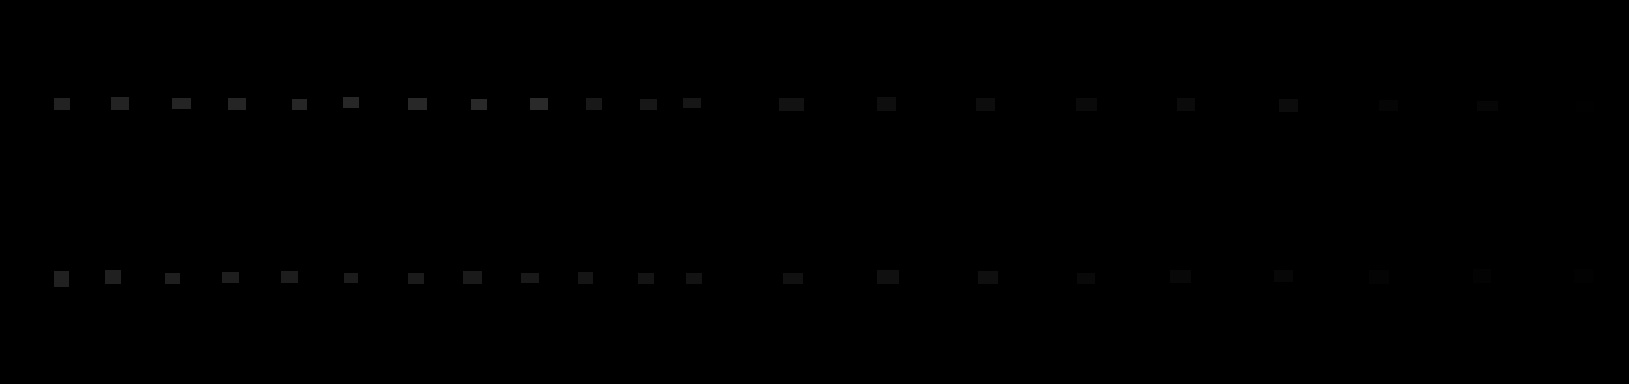light: (779, 98, 804, 111), (877, 270, 899, 284), (1369, 270, 1389, 284), (1170, 270, 1191, 283), (1076, 98, 1097, 111), (978, 271, 998, 284), (1574, 269, 1593, 283), (877, 97, 896, 111), (976, 98, 995, 111), (1473, 269, 1491, 283), (1279, 99, 1298, 112), (463, 271, 482, 284), (1274, 270, 1293, 282), (54, 271, 69, 287), (1177, 98, 1195, 111), (111, 97, 129, 110), (228, 98, 246, 110), (408, 98, 427, 110), (105, 270, 121, 284), (1379, 100, 1398, 111), (783, 273, 803, 284), (281, 271, 298, 283), (530, 98, 548, 110), (1477, 101, 1498, 111), (172, 98, 191, 109), (1576, 101, 1594, 112), (1077, 273, 1095, 284), (578, 272, 593, 284), (683, 98, 701, 108), (586, 98, 602, 110), (520, 273, 539, 283), (54, 98, 70, 110), (686, 273, 702, 284), (638, 273, 655, 284), (640, 99, 657, 110), (222, 272, 239, 283), (343, 97, 359, 108), (471, 99, 487, 110), (408, 273, 424, 284), (292, 99, 308, 110), (165, 273, 180, 284), (344, 273, 358, 283)
